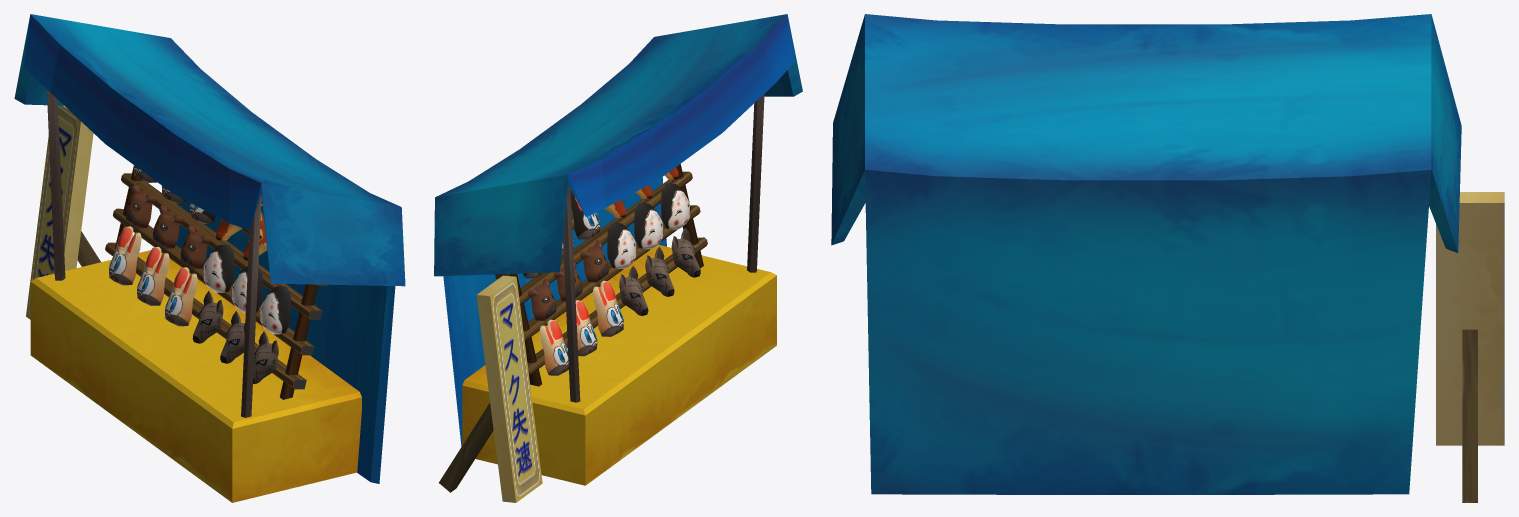
Rendered from MB_Mask.fbx.
The picture shows the model from 3 angles, left to right: view 1: azimuth 30°, elevation 25°; view 2: azimuth 150°, elevation 25°; view 3: azimuth 270°, elevation 25°; orthographic projection. The views are drawn at different scales.
Visible parts, largest first — view 1: _mask2; view 2: _mask2; view 3: _mask2.
Boxes of the visible parts, box(x1,y1,x2,y2) form: _mask2: box(14, 14, 405, 502); _mask2: box(434, 14, 802, 502); _mask2: box(831, 14, 1504, 502).
Bounding box in the file's own units: 229 × 496 × 711.
